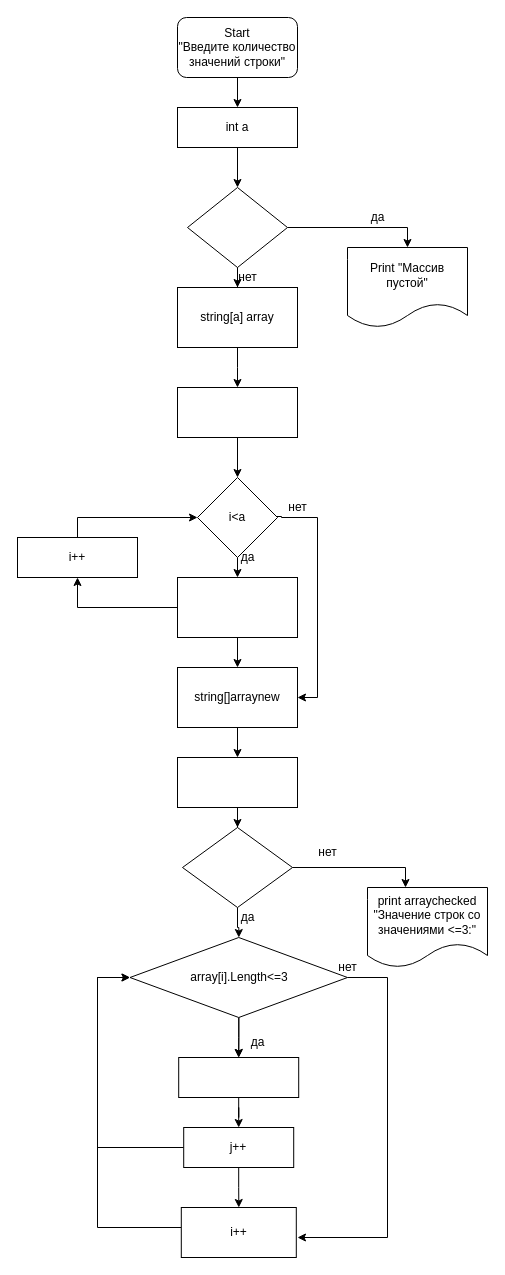
The diagram is 505 pixels wide and 1275 high, and some of its shapes have lost their labels. Each missing label, with the centre of its shape:
"Введите элемент строки" string?[]arraynew: pixel 237 607
a=0: pixel 237 227
arraychecked[j]: pixel 238 1077
i<array.Length: pixel 237 867
i=0: pixel 237 412
j=0 string[]arraychecked: pixel 237 782
